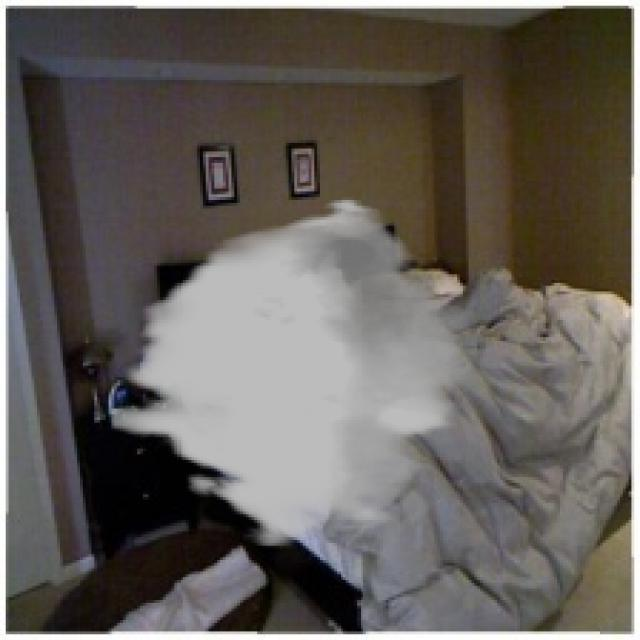Smoke: (112, 197, 477, 549)
